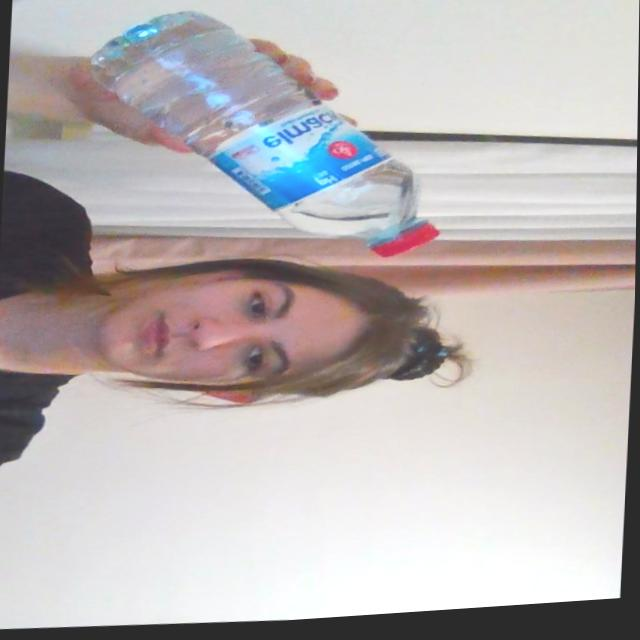anorganik: (65, 0, 477, 284)
